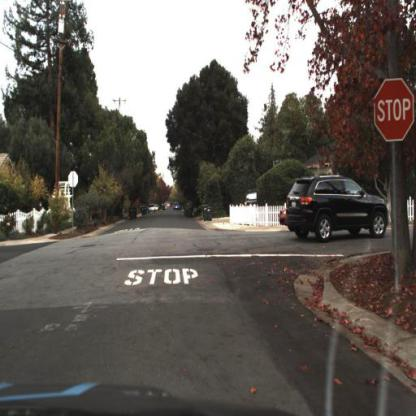car: (287, 173, 392, 245), (278, 196, 290, 236)
